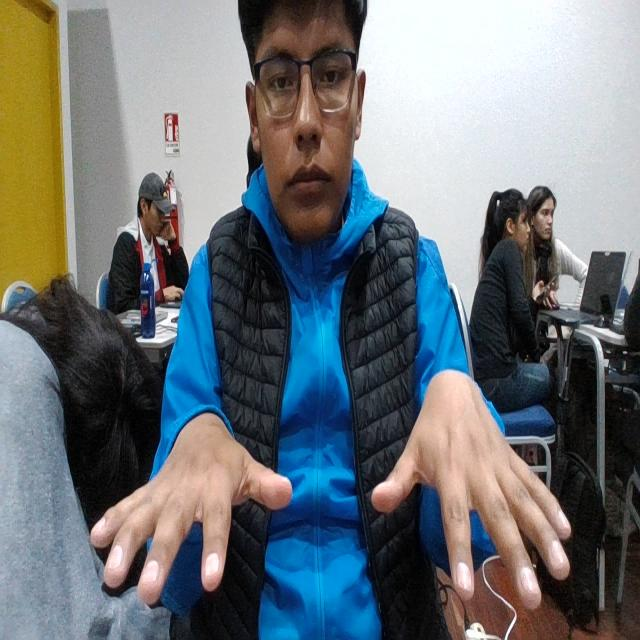calm: (78, 406, 573, 615)
